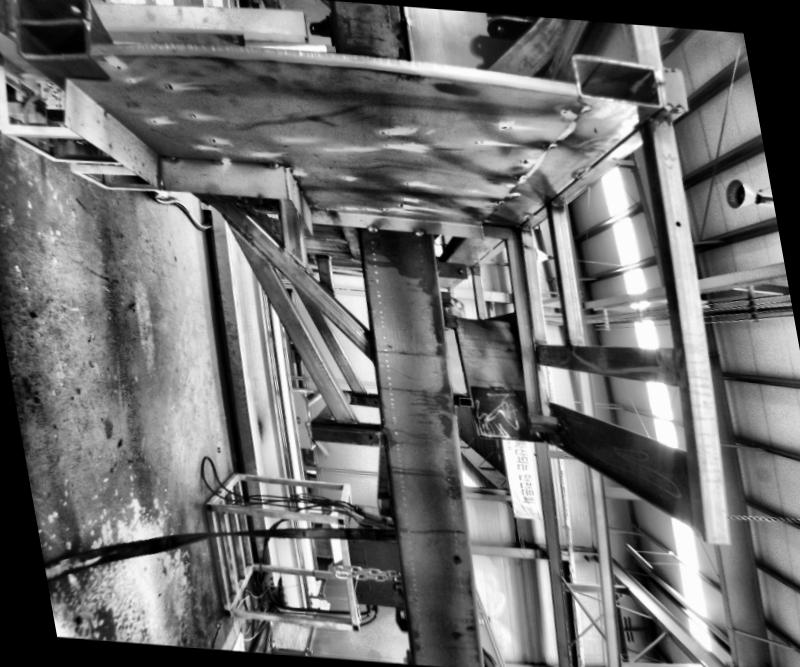hole: (670, 217, 681, 228), (449, 552, 456, 559), (364, 433, 371, 439), (634, 360, 640, 366)
welding: (199, 151, 228, 167), (156, 148, 178, 162), (406, 225, 426, 236), (256, 158, 276, 166), (362, 220, 375, 232)
